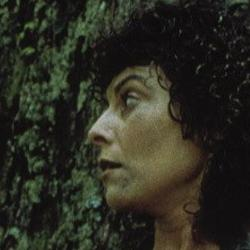face: (71, 7, 249, 237)
